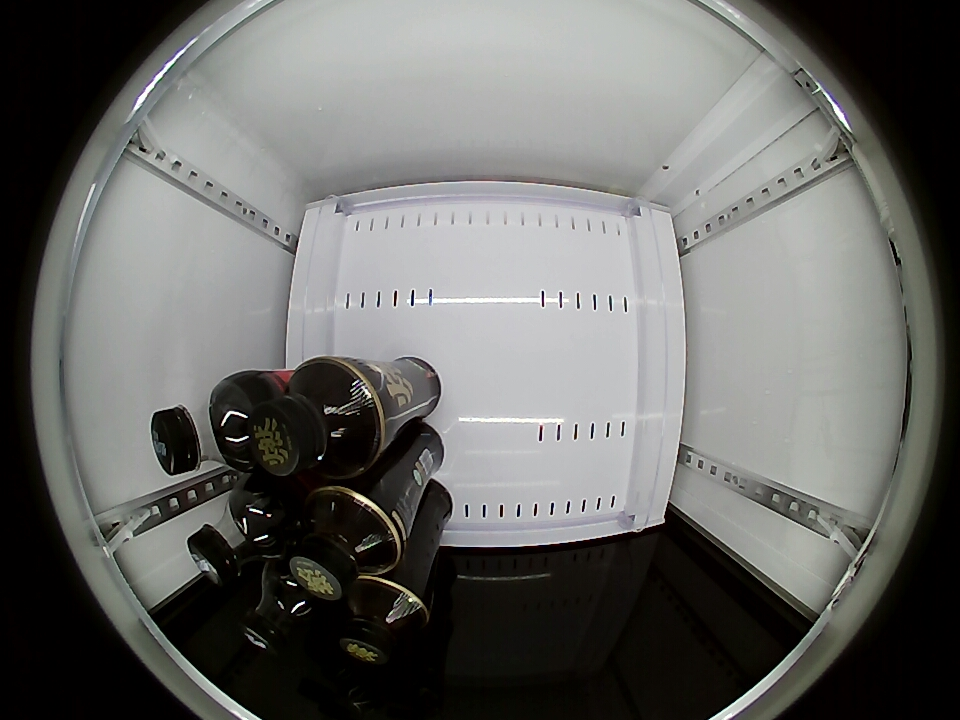lingdukele-b: (186, 483, 289, 585), (151, 381, 257, 475), (240, 565, 327, 653)
rancha-1: (249, 357, 384, 478), (287, 487, 404, 599), (340, 575, 431, 665)
